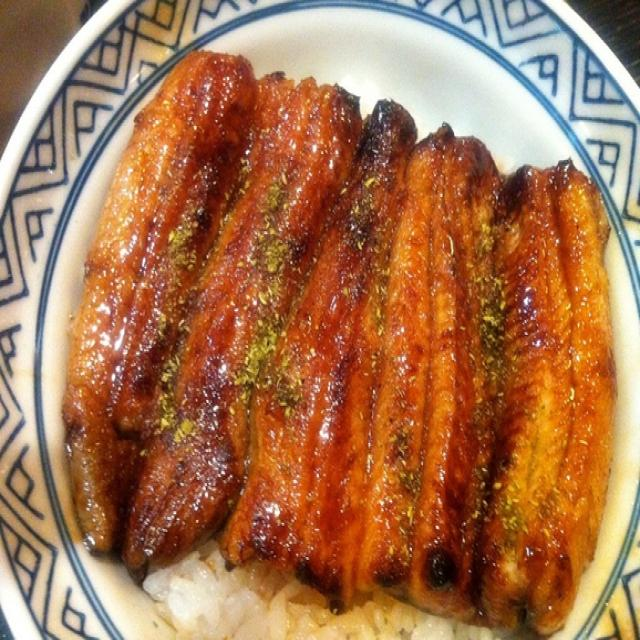熟制海鲜: (40, 24, 619, 628)
